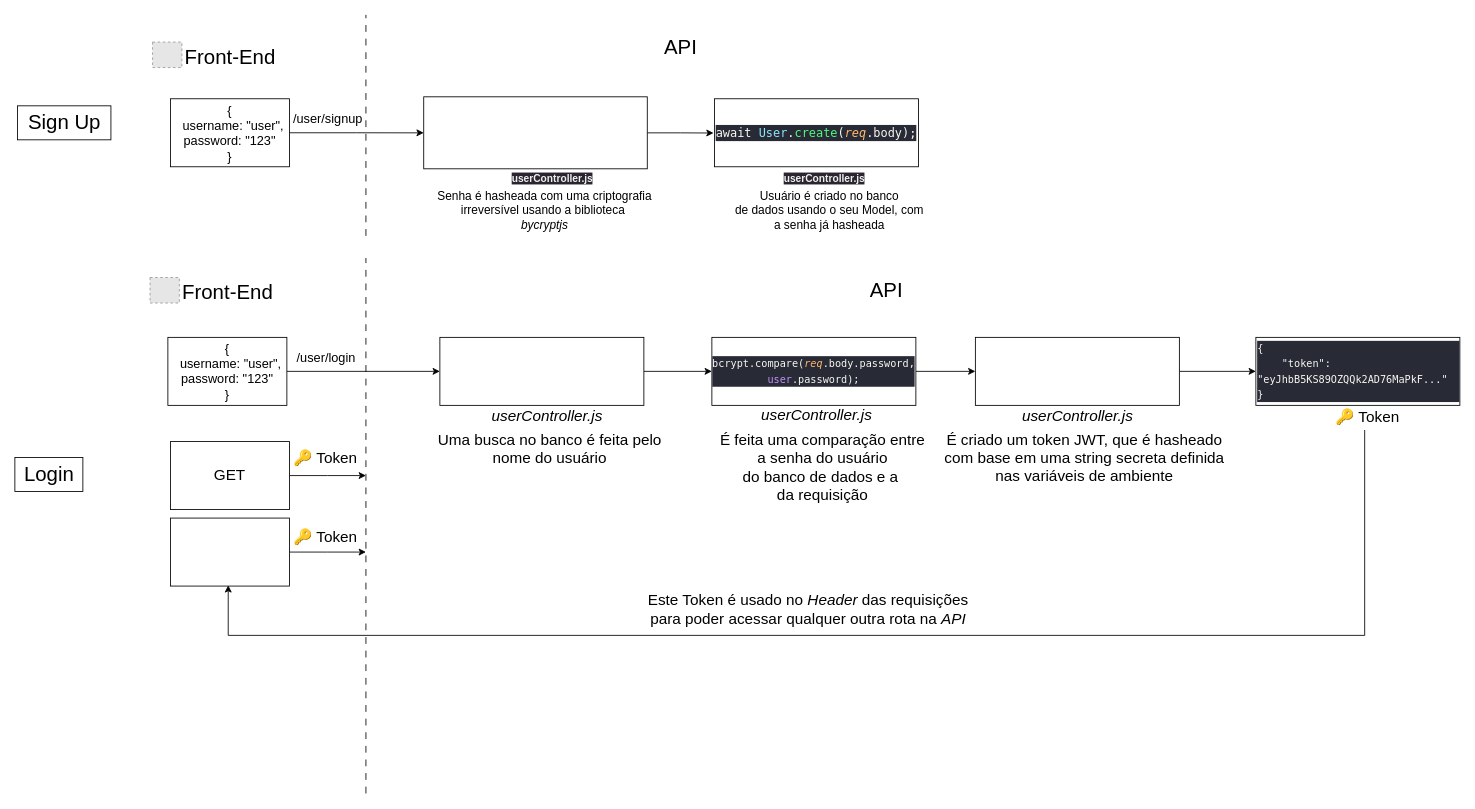
This 1475x809 diagram has some shape labels left out. Grey dashed boxes stand in for pictures. Here are the shapes that lost their labels. From the top down, the box of each, then its label:
(423, 96, 647, 169): bcrypt.hash( req .body.password, 10 )
(439, 337, 644, 405): User. findOne ({ username : req .body.username });
(975, 337, 1179, 405): jwt.sign({ username : user .username }, SECRET );
(170, 517, 289, 586): POST
